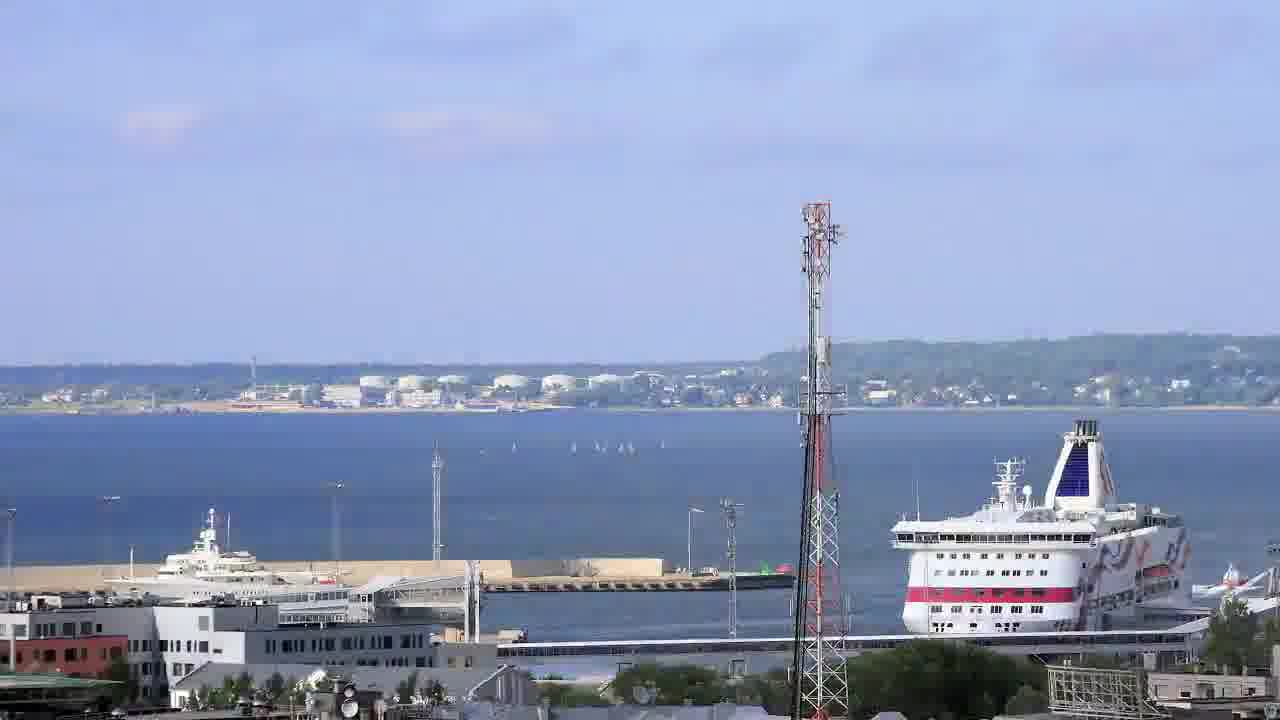type-0: (1206, 558, 1262, 602)
type-3: (868, 415, 1225, 638), (84, 537, 359, 610)
